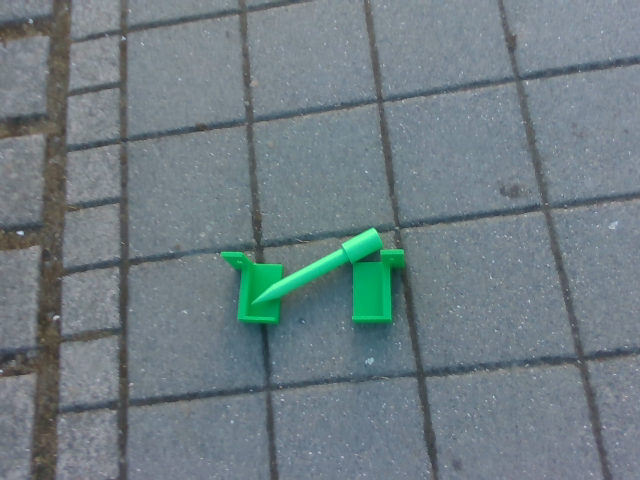Probe: (246, 224, 385, 310)
